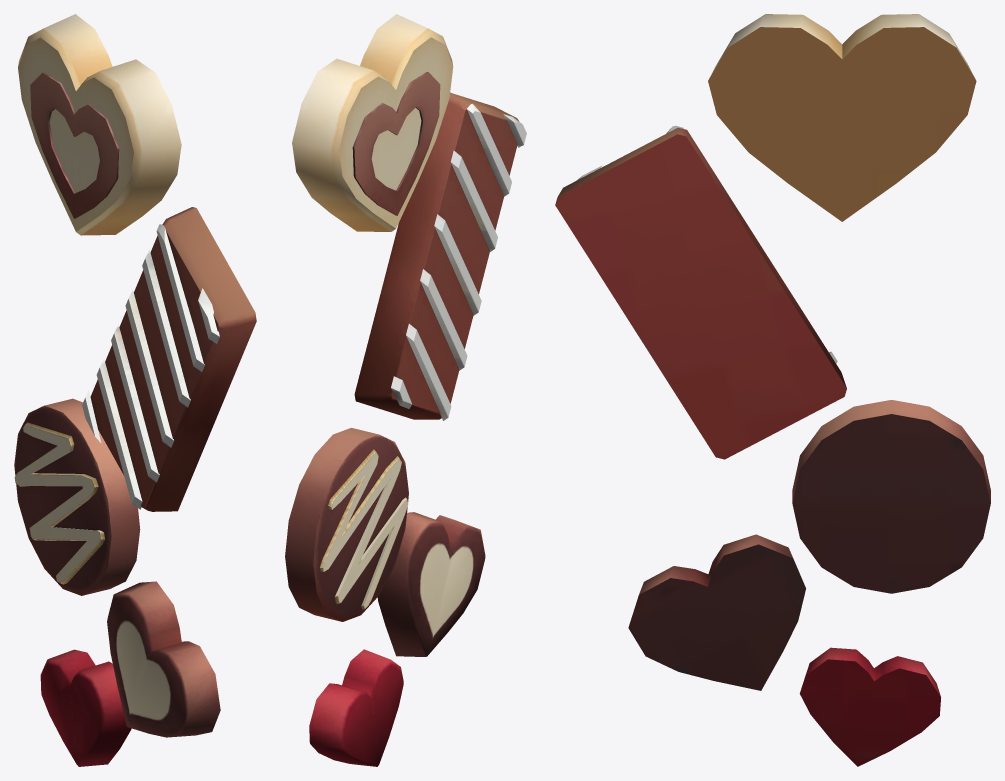
Rendered from my_chocolatecafe_01_p_wall_acc_04.glb.
The picture shows the model from 3 angles, left to right: view 1: azimuth 30°, elevation 25°; view 2: azimuth 150°, elevation 25°; view 3: azimuth 270°, elevation 25°; orthographic projection. The views are drawn at different scales.
Parts seen in each view (by area): view 1: my_chocolatecafe_01_p_wall_acc_04; view 2: my_chocolatecafe_01_p_wall_acc_04; view 3: my_chocolatecafe_01_p_wall_acc_04.
Part boxes in pixels (bbox=[...]): my_chocolatecafe_01_p_wall_acc_04: bbox=[14, 14, 256, 766]; my_chocolatecafe_01_p_wall_acc_04: bbox=[285, 14, 526, 766]; my_chocolatecafe_01_p_wall_acc_04: bbox=[555, 14, 990, 766].
Size of the model in its own units: 0.00106 by 0.0177 by 0.00944.
1 material, 1 textured.
